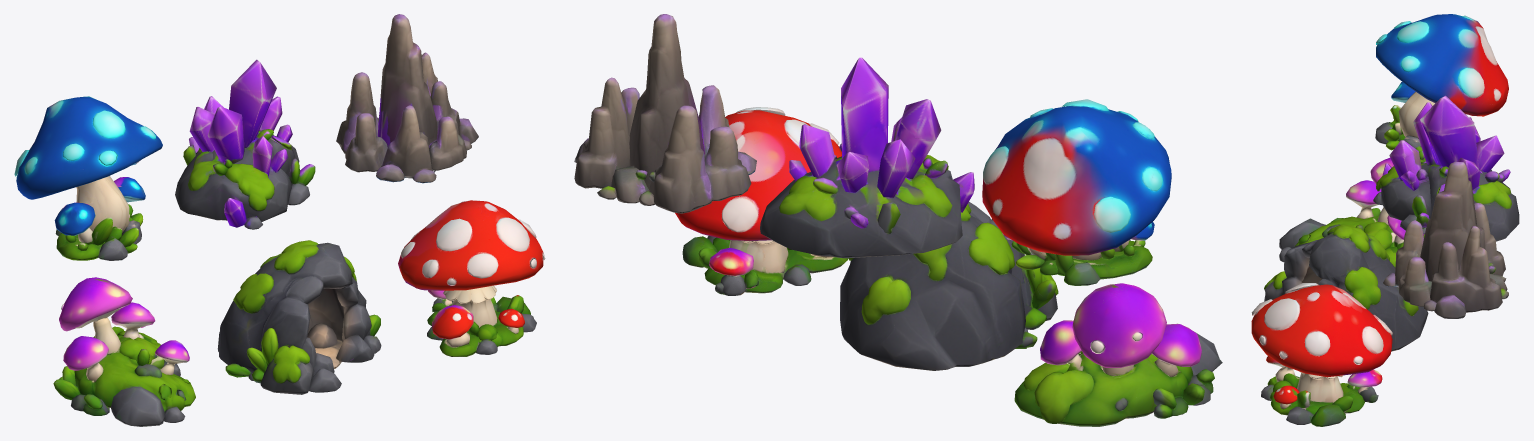
The model's file is props_cave.glb.
3 renders of one model, left to right at view 1: azimuth 30°, elevation 25°; view 2: azimuth 150°, elevation 25°; view 3: azimuth 270°, elevation 25°, orthographic. The views are drawn at different scales.
Bounding box in the file's own units: 0.9556 × 0.5132 × 0.5146.
1 material, 1 textured.
